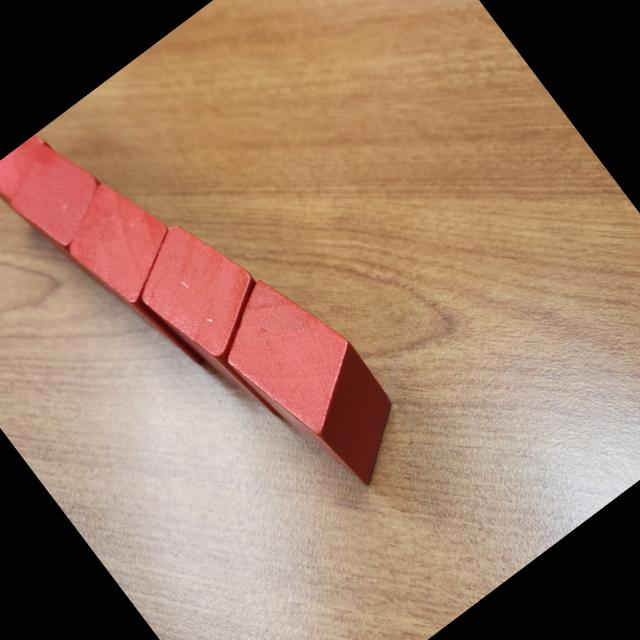red: (197, 258, 428, 513), (116, 202, 332, 440), (46, 168, 246, 390), (0, 128, 138, 283), (0, 132, 73, 223)
